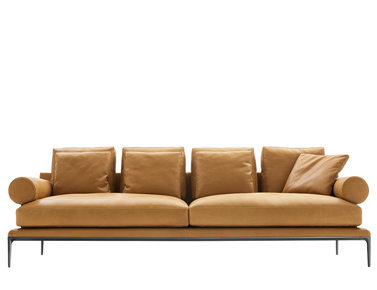chairs: (4, 142, 372, 270)
